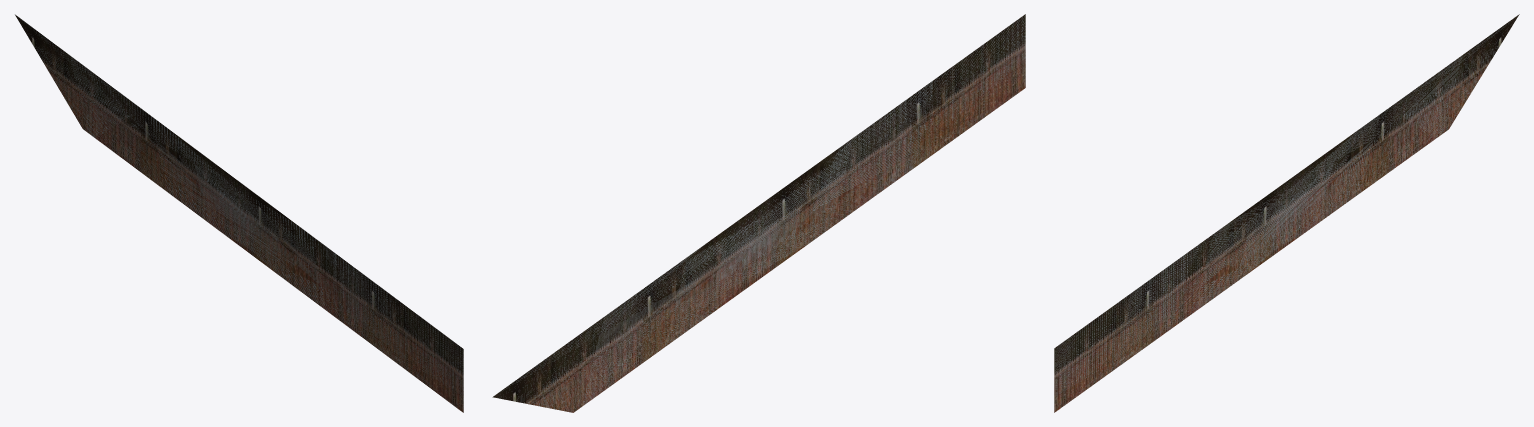
Rendered from 西庸城堡634.dae.
3 renders of one model, left to right at view 1: azimuth 30°, elevation 25°; view 2: azimuth 150°, elevation 25°; view 3: azimuth 330°, elevation 25°, orthographic. The views are drawn at different scales.
Visible parts, largest first — view 1: SketchUp; view 2: SketchUp; view 3: SketchUp.
Part boxes in pixels (left/top/right/bottom): SketchUp: left=15, top=14, right=463, bottom=412; SketchUp: left=492, top=14, right=1025, bottom=412; SketchUp: left=1054, top=14, right=1519, bottom=412.
Size of the model in its own units: 8.19 by 1014 by 78.75.
